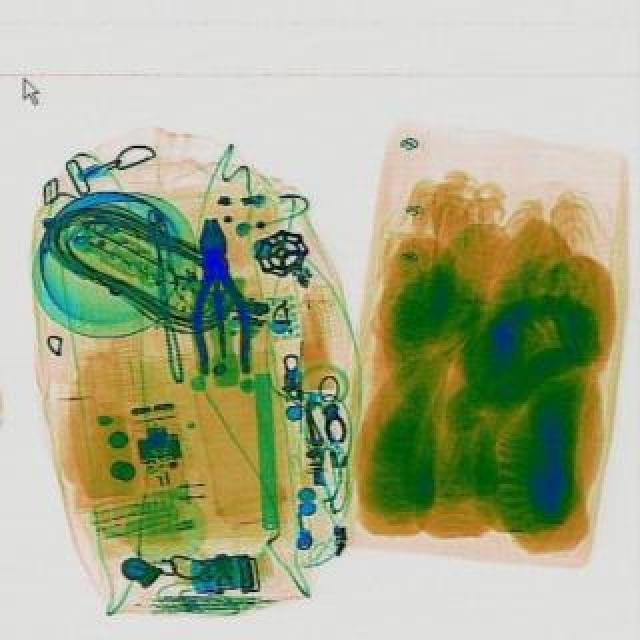wrench: (182, 214, 254, 374)
